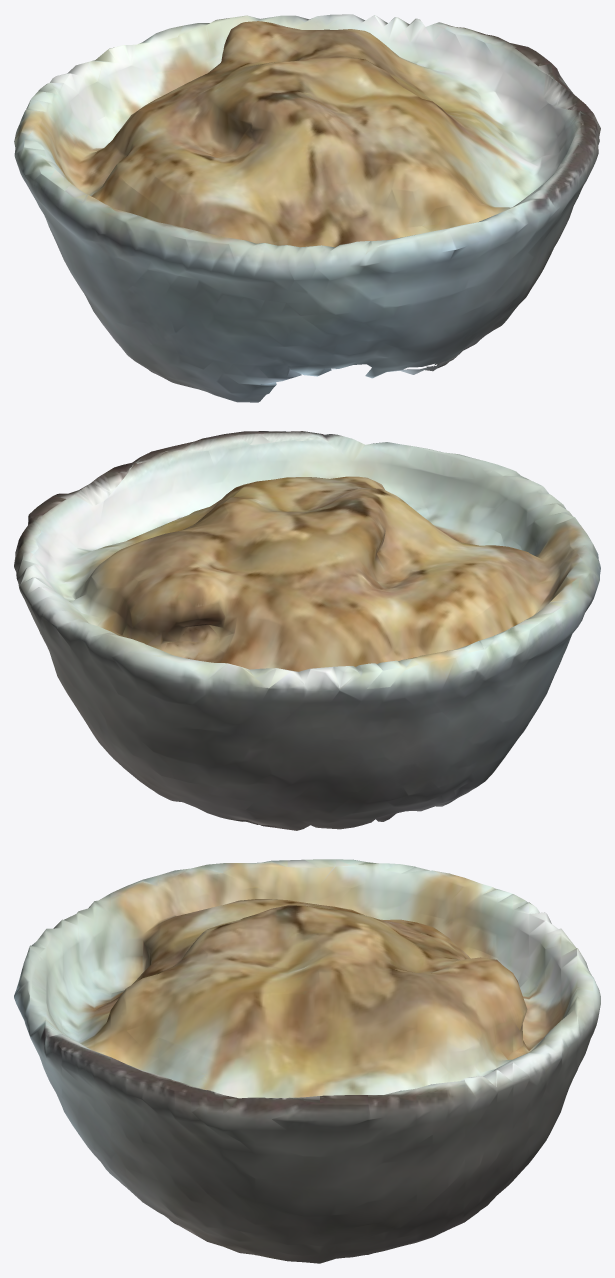
The model's file is CentralizedModel.obj.
3 views of the same model, one above another, from view 1: azimuth 30°, elevation 25°; view 2: azimuth 150°, elevation 25°; view 3: azimuth 270°, elevation 25° (orthographic).
Bounding box in the file's own units: 0.1099 × 0.0575 × 0.1094.
1 material, 1 textured.
